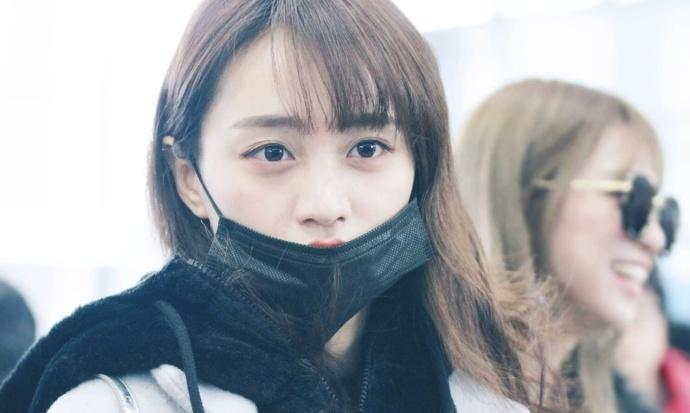NONE: (531, 145, 670, 323)
WRONG: (184, 71, 436, 326)
